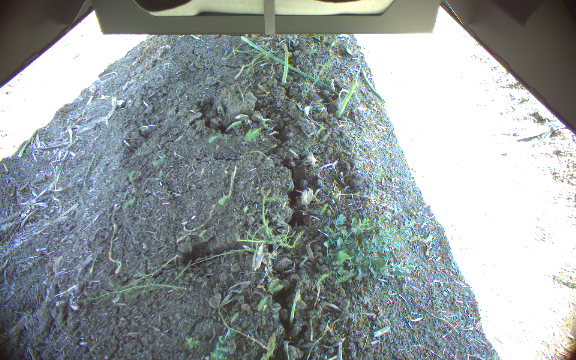aspa: (335, 73, 358, 118), (281, 42, 289, 86)
